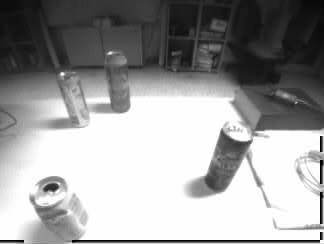Tin can: (30, 176, 88, 240), (207, 120, 250, 189), (59, 70, 89, 127), (106, 51, 131, 112)
